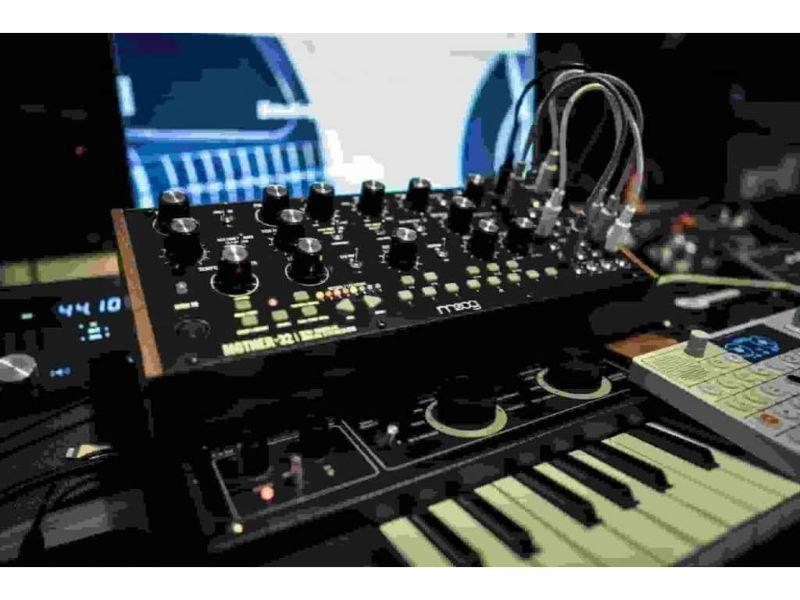synthesizer: (156, 394, 785, 557)
